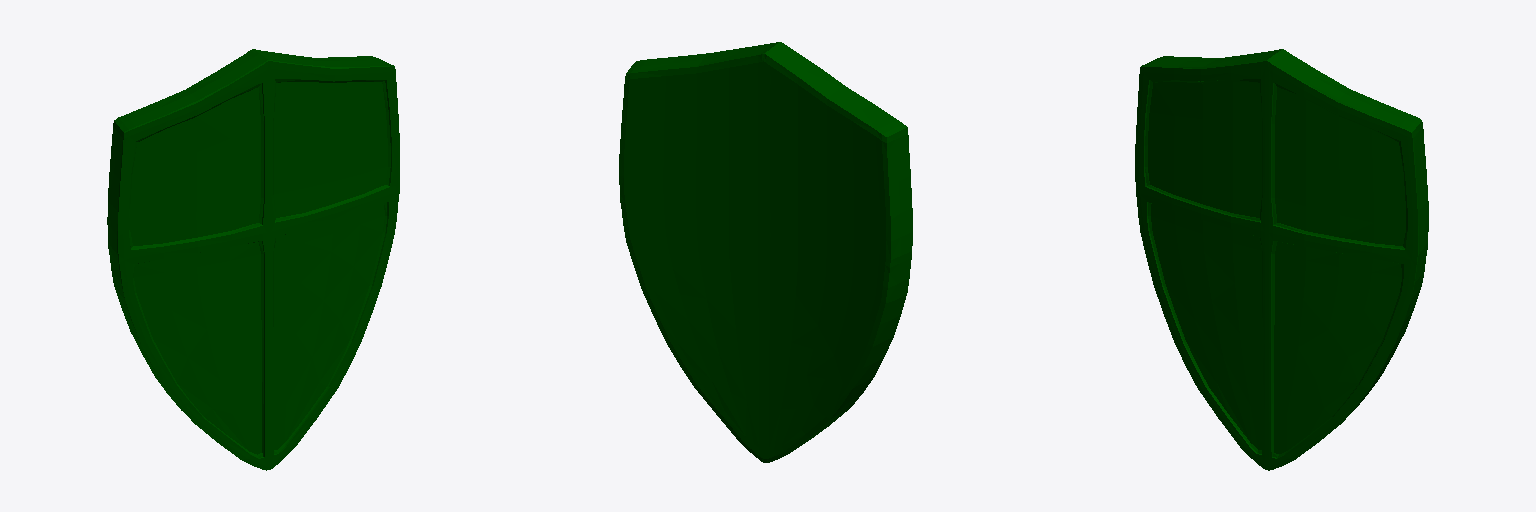
Rendered from shield.obj.
3 renders of one model, left to right at view 1: azimuth 30°, elevation 25°; view 2: azimuth 150°, elevation 25°; view 3: azimuth 330°, elevation 25°, orthographic.
Parts seen in each view (by area): view 1: Shield; view 2: Shield; view 3: Shield.
Part boxes in pixels (left/top/right/bottom): Shield: left=107, top=49, right=399, bottom=470; Shield: left=619, top=42, right=912, bottom=462; Shield: left=1135, top=49, right=1428, bottom=470.
Size of the model in its own units: 1.16 by 1.62 by 0.1878.